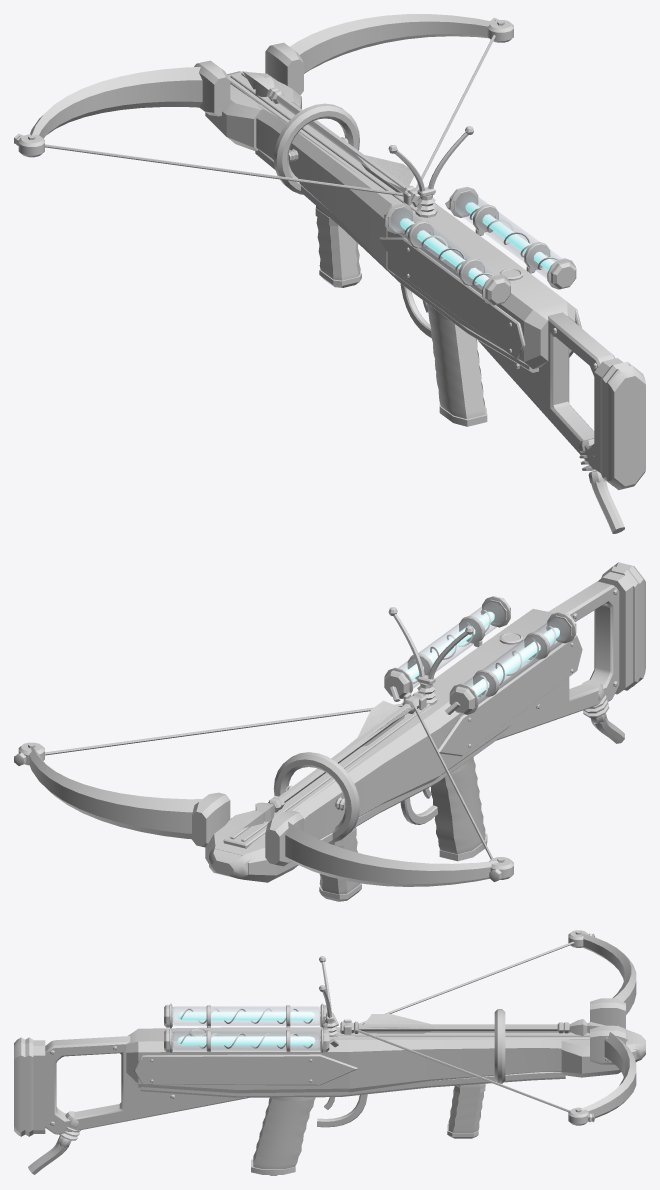
Rendered from raw.glb.
3 renders of one model, top to bottom at view 1: azimuth 30°, elevation 25°; view 2: azimuth 150°, elevation 25°; view 3: azimuth 270°, elevation 25°, orthographic. The views are drawn at different scales.
Visible parts, largest first — view 1: Stormreel_Body, Prod_L, Prod_R, Capacitor_Glass, Bolt_Mesh, String_L, Charge_R_Core, Charge_L_Core; view 2: Stormreel_Body, Prod_L, Prod_R, Capacitor_Glass, Bolt_Mesh, String_R, Charge_L_Core, Charge_R_Core, String_L; view 3: Stormreel_Body, Capacitor_Glass, Bolt_Mesh, Prod_R, Prod_L, Charge_R_Core, Charge_L_Core, String_R, String_L.
Part boxes in pixels (x1,y1,x2,y2): Stormreel_Body: (194,42,645,533); Prod_L: (14,67,202,157); Prod_R: (290,14,513,73); Capacitor_Glass: (390,192,561,294); Bolt_Mesh: (243,71,420,207); String_L: (45,144,402,195); Charge_R_Core: (465,202,554,270); Charge_L_Core: (400,218,489,286); Stormreel_Body: (192,562,645,901); Prod_L: (285,822,513,886); Prod_R: (14,742,201,839); Capacitor_Glass: (398,602,569,703); Bolt_Mesh: (242,692,423,828); String_R: (45,703,402,755); Charge_L_Core: (471,627,559,695); Charge_R_Core: (406,611,494,679); String_L: (414,707,492,859); Stormreel_Body: (14,956,645,1175); Capacitor_Glass: (173,1006,319,1050); Bolt_Mesh: (340,1014,606,1036); Prod_R: (568,1032,636,1125); Prod_L: (568,930,636,1014); Charge_R_Core: (177,1036,315,1045); Charge_L_Core: (177,1011,315,1020); String_R: (356,1029,569,1112); String_L: (359,942,574,1024).
Size of the model in its own units: 0.5495 by 0.2804 by 0.788.
